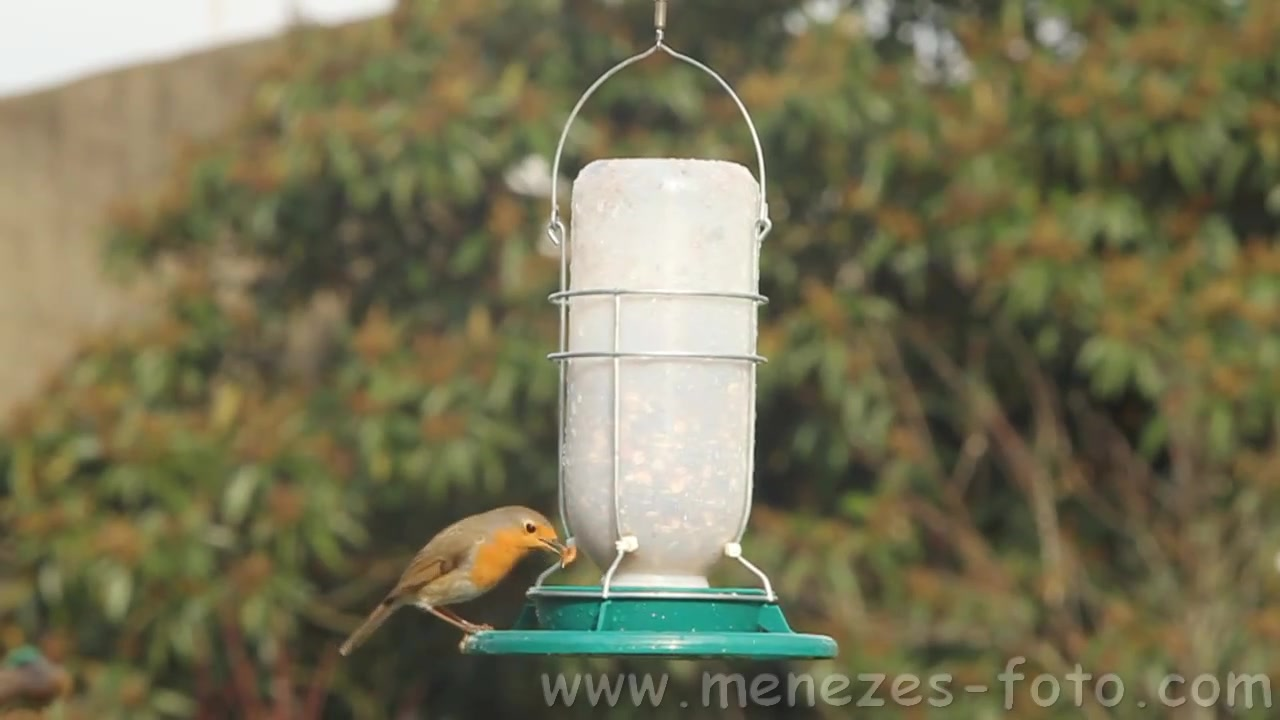bird: (339, 499, 568, 666)
